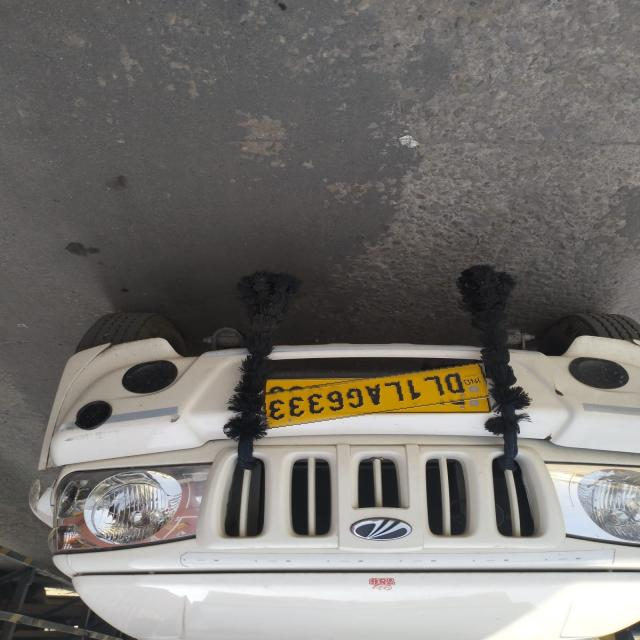License-plate: (261, 369, 488, 422)
